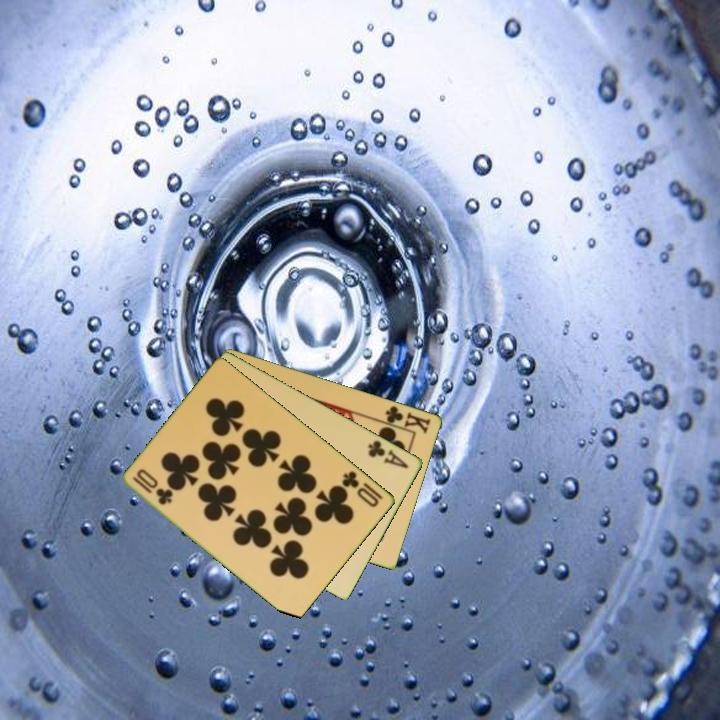10c: (338, 467, 386, 510), (130, 473, 176, 508)
Ac: (365, 436, 412, 471)
Kc: (377, 402, 434, 436)
